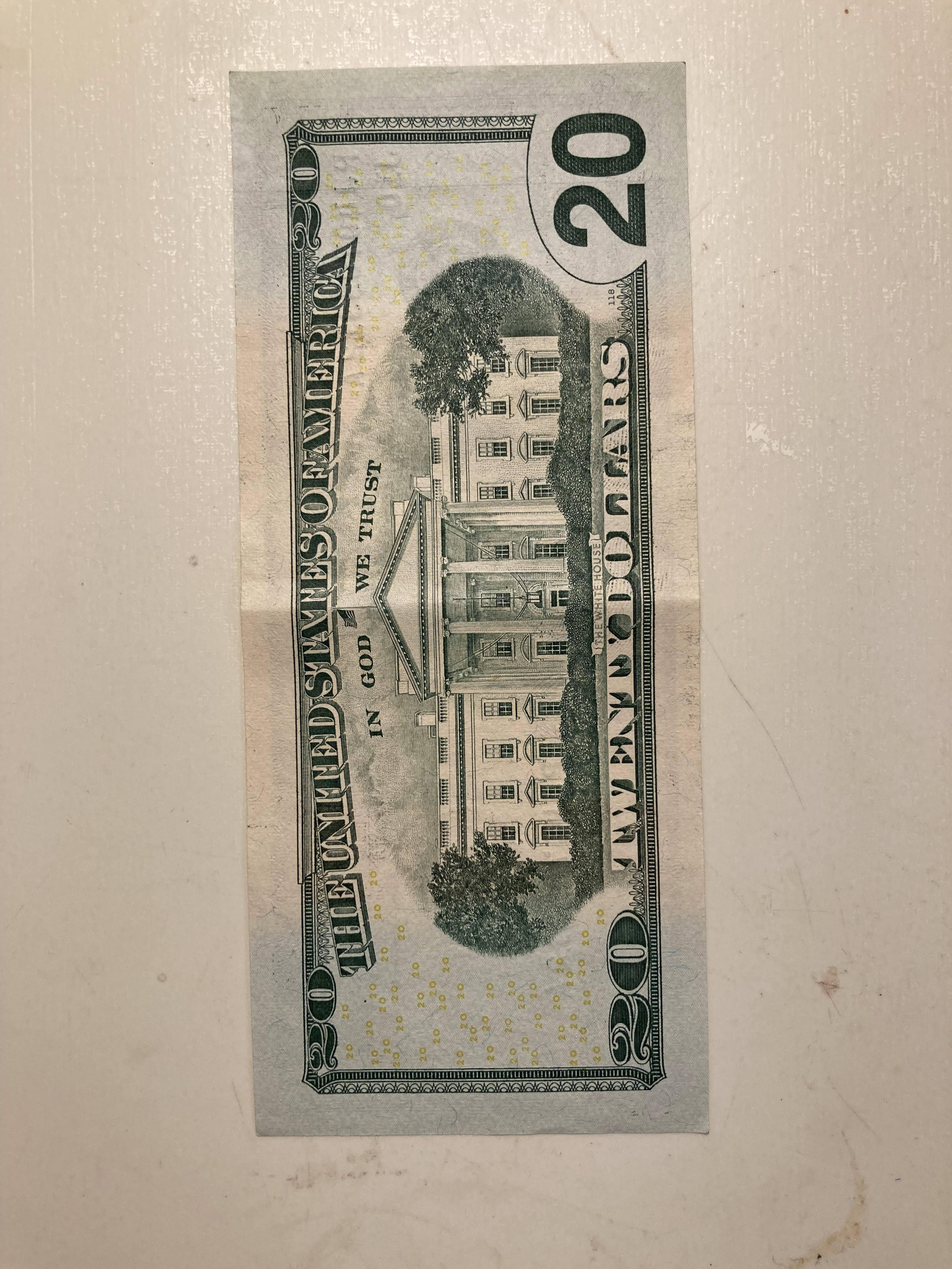twenty-back: (230, 62, 709, 1141)
